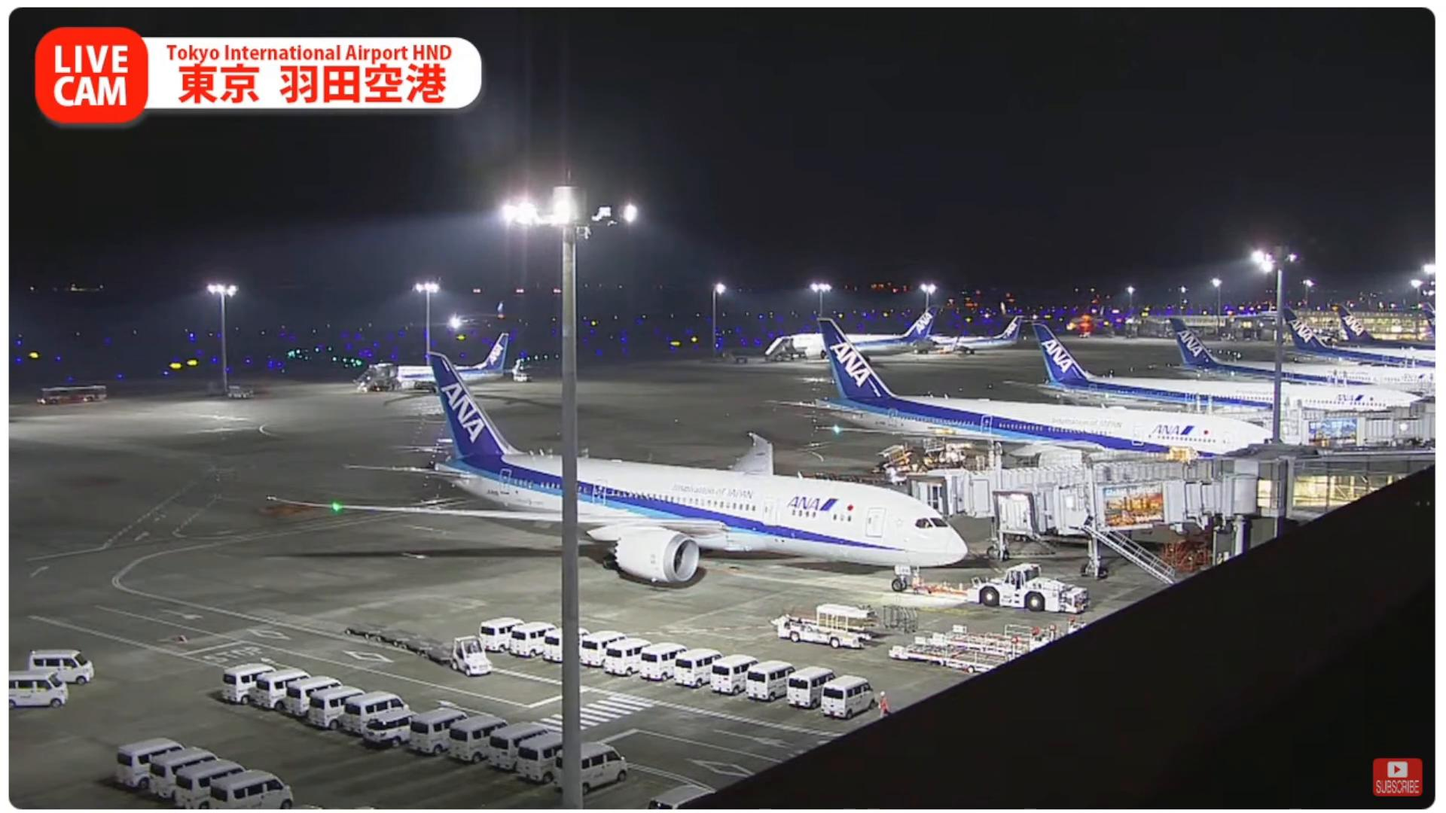APS: (966, 563, 1092, 617)
Aerobridge: (905, 456, 1224, 519), (989, 475, 1256, 533)
Airplane: (269, 351, 970, 589)
Dolly: (346, 620, 454, 666)
JCPL: (912, 624, 1048, 657), (889, 640, 1014, 673), (747, 584, 750, 584)
Skyloader: (771, 601, 875, 650)
Tractor: (450, 636, 492, 674)
Window: (1290, 455, 1437, 521)
